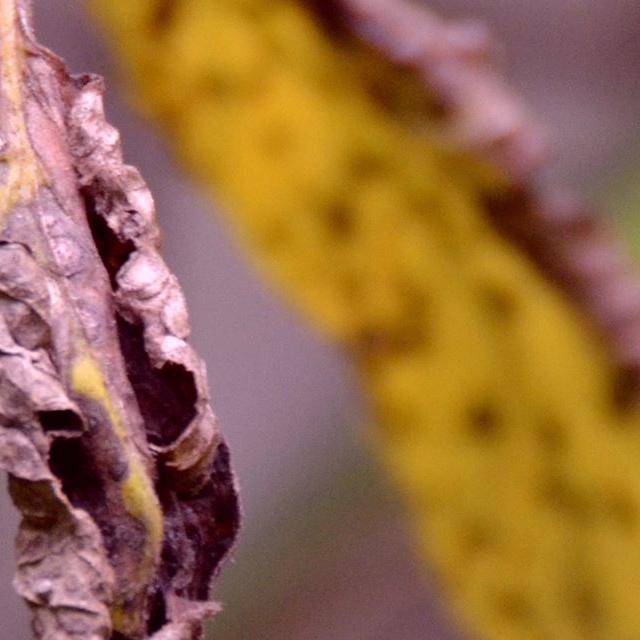Tomato Septoria leaf spot: (66, 0, 640, 640), (0, 589, 35, 640)
